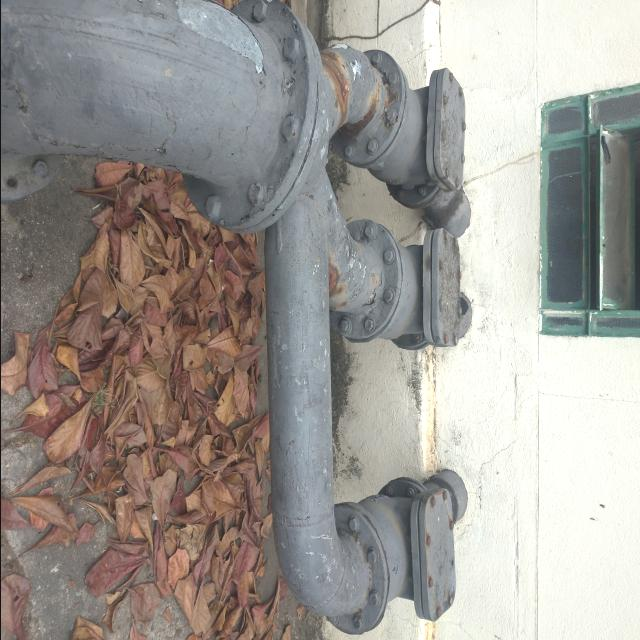gas: (0, 0, 469, 624)
